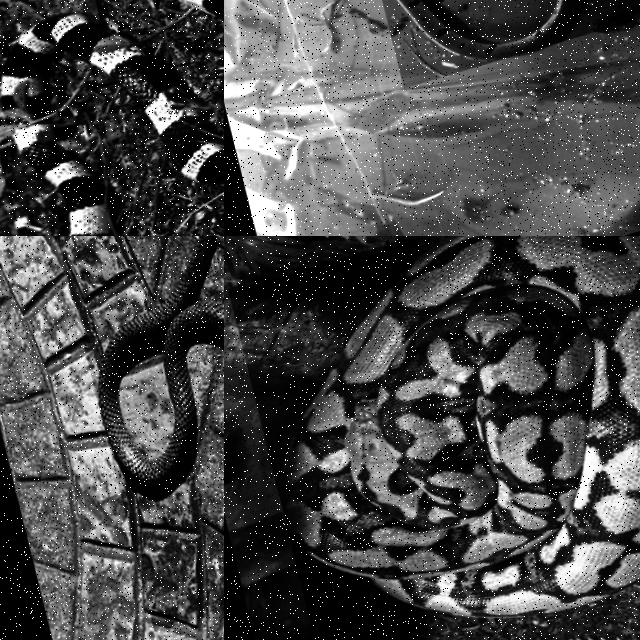Bungarus candidus: (1, 12, 223, 183)
Calliophis maculiceps: (401, 0, 576, 57)
Chrysopelea ornata: (98, 236, 223, 484)
Malayopython reticulatus: (283, 236, 639, 616)
snake: (283, 236, 639, 616), (1, 12, 223, 183), (98, 236, 223, 484), (401, 0, 576, 57)
